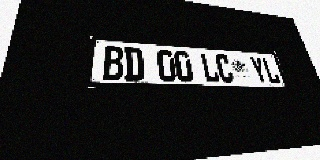0: (156, 49, 177, 82), (173, 51, 194, 82)
B: (103, 45, 124, 81)
C: (214, 54, 235, 83)
D: (124, 47, 144, 81)
L: (200, 53, 220, 83), (261, 57, 281, 84)
Y: (249, 56, 269, 84)
